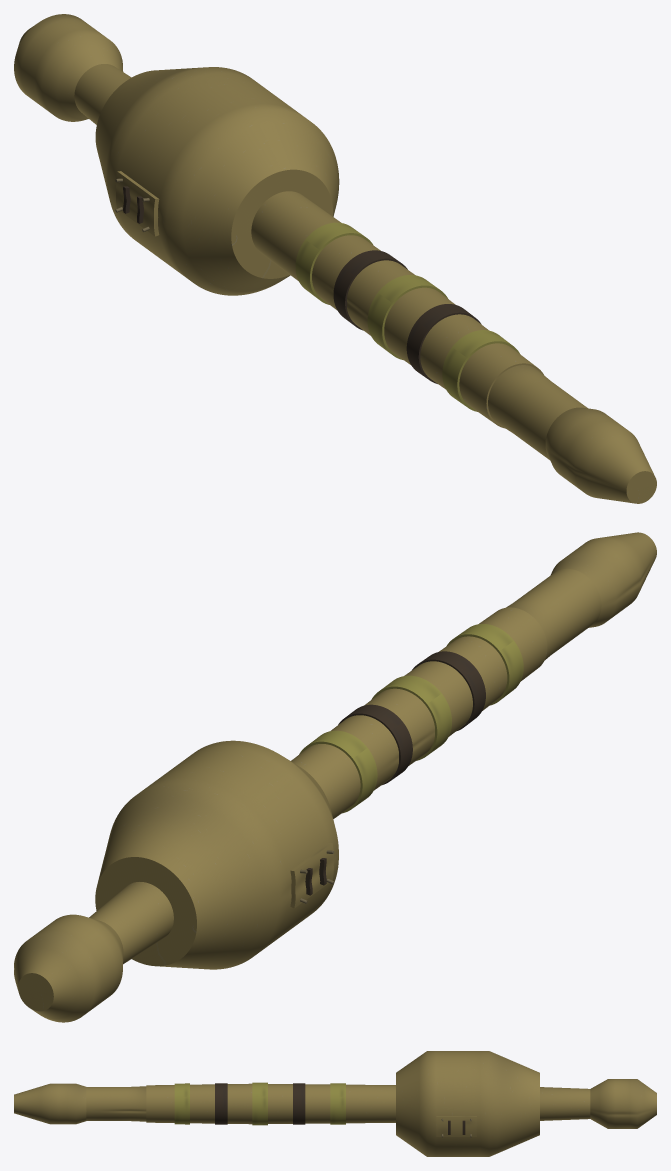
3 views of the same model, one above another, from view 1: azimuth 30°, elevation 25°; view 2: azimuth 150°, elevation 25°; view 3: azimuth 270°, elevation 25° (orthographic). The views are drawn at different scales.
Visible parts, largest first — view 1: Braccatian Multi Blast rear expansion, Braccatian Multi Blast gold main shaft, Braccatian Multi Blast forward gold end, Braccatian Multi Blast rear gold end, Braccatian Multi Blast gold forward connector, Braccatian Multi Blast axial band 2, Braccatian Multi Blast axial band 0, Braccatian Multi Blast axial band 4, Braccatian Multi Blast axial band 1, Braccatian Multi Blast service cover 1, Braccatian Multi Blast axial band 3; view 2: Braccatian Multi Blast rear expansion, Braccatian Multi Blast gold main shaft, Braccatian Multi Blast rear gold end, Braccatian Multi Blast forward gold end, Braccatian Multi Blast gold forward connector, Braccatian Multi Blast axial band 2, Braccatian Multi Blast axial band 4, Braccatian Multi Blast axial band 0, Braccatian Multi Blast axial band 3, Braccatian Multi Blast service cover 1, Braccatian Multi Blast axial band 1; view 3: Braccatian Multi Blast rear expansion, Braccatian Multi Blast gold main shaft, Braccatian Multi Blast rear gold end, Braccatian Multi Blast forward gold end, Braccatian Multi Blast gold forward connector, Braccatian Multi Blast service cover 0, Braccatian Multi Blast axial band 2, Braccatian Multi Blast axial band 4, Braccatian Multi Blast axial band 0, Braccatian Multi Blast axial band 1, Braccatian Multi Blast axial band 3.
Part boxes in pixels (x1=…): Braccatian Multi Blast rear expansion: x1=95, y1=67, x2=339, y2=295; Braccatian Multi Blast gold main shaft: x1=74, y1=64, x2=543, y2=428; Braccatian Multi Blast forward gold end: x1=545, y1=407, x2=656, y2=503; Braccatian Multi Blast rear gold end: x1=14, y1=14, x2=123, y2=121; Braccatian Multi Blast gold forward connector: x1=488, y1=365, x2=587, y2=459; Braccatian Multi Blast axial band 2: x1=367, y1=275, x2=447, y2=359; Braccatian Multi Blast axial band 0: x1=442, y1=330, x2=519, y2=411; Braccatian Multi Blast axial band 4: x1=295, y1=222, x2=372, y2=304; Braccatian Multi Blast axial band 1: x1=406, y1=304, x2=481, y2=383; Braccatian Multi Blast service cover 1: x1=116, y1=171, x2=159, y2=236; Braccatian Multi Blast axial band 3: x1=333, y1=250, x2=407, y2=330; Braccatian Multi Blast rear expansion: x1=95, y1=740, x2=338, y2=969; Braccatian Multi Blast gold main shaft: x1=89, y1=607, x2=547, y2=964; Braccatian Multi Blast rear gold end: x1=14, y1=914, x2=123, y2=1022; Braccatian Multi Blast forward gold end: x1=550, y1=532, x2=656, y2=627; Braccatian Multi Blast gold forward connector: x1=506, y1=568, x2=601, y2=660; Braccatian Multi Blast axial band 2: x1=371, y1=675, x2=451, y2=760; Braccatian Multi Blast axial band 4: x1=299, y1=730, x2=377, y2=813; Braccatian Multi Blast axial band 0: x1=447, y1=624, x2=523, y2=705; Braccatian Multi Blast axial band 3: x1=338, y1=704, x2=412, y2=784; Braccatian Multi Blast service cover 1: x1=290, y1=843, x2=333, y2=908; Braccatian Multi Blast axial band 1: x1=412, y1=651, x2=485, y2=731; Braccatian Multi Blast rear expansion: x1=396, y1=1051, x2=539, y2=1156; Braccatian Multi Blast gold main shaft: x1=146, y1=1083, x2=590, y2=1124; Braccatian Multi Blast rear gold end: x1=590, y1=1079, x2=656, y2=1128; Braccatian Multi Blast forward gold end: x1=14, y1=1083, x2=86, y2=1124; Braccatian Multi Blast gold forward connector: x1=86, y1=1086, x2=146, y2=1121; Braccatian Multi Blast service cover 0: x1=436, y1=1116, x2=476, y2=1136; Braccatian Multi Blast axial band 2: x1=252, y1=1082, x2=267, y2=1125; Braccatian Multi Blast axial band 4: x1=330, y1=1083, x2=345, y2=1124; Braccatian Multi Blast axial band 0: x1=174, y1=1083, x2=189, y2=1124; Braccatian Multi Blast axial band 1: x1=215, y1=1083, x2=227, y2=1124; Braccatian Multi Blast axial band 3: x1=293, y1=1083, x2=305, y2=1124.
Bounding box in the file's own units: 0.3763 × 0.34 × 2.06.
Materials: 4 (3 with a texture image).
